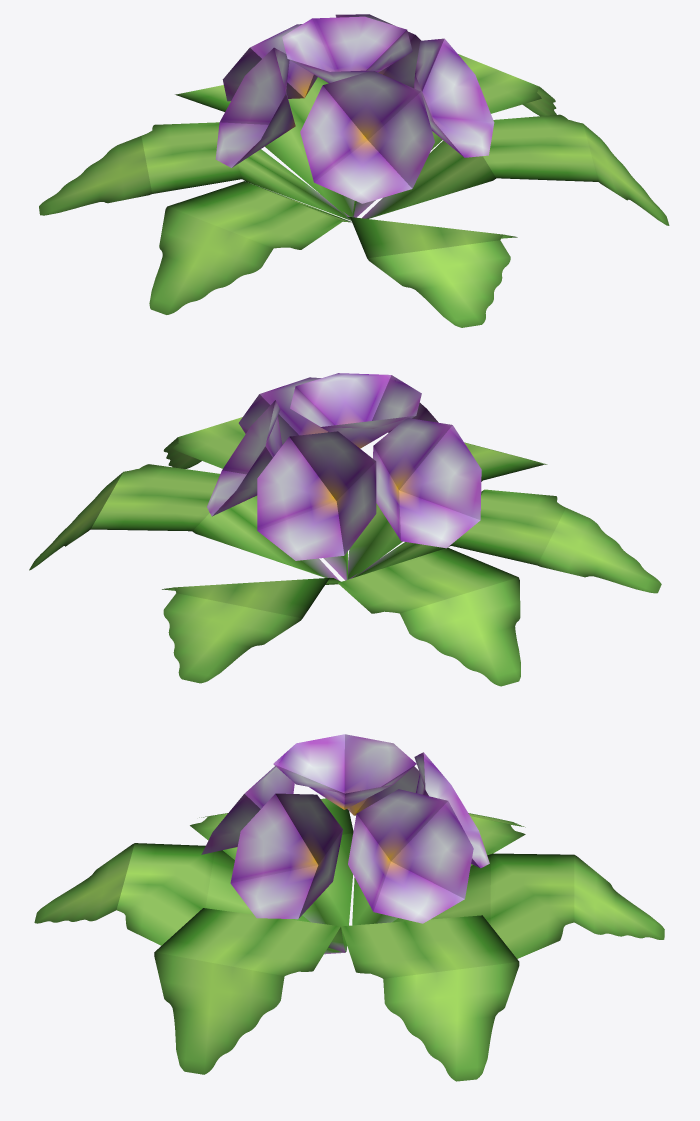
The model's file is Poly_Weed_Plant_05.obj.
3 views of the same model, one above another, from view 1: azimuth 30°, elevation 25°; view 2: azimuth 150°, elevation 25°; view 3: azimuth 270°, elevation 25° (orthographic).
Visible parts, largest first — view 1: Plane.001, Cube.001, Cube.005, Cube.007, Cube.004, Cube.003, Cube.002; view 2: Plane.001, Cube.003, Cube.004, Cube.007, Cube.002, Cube.005; view 3: Plane.001, Cube.002, Cube.005, Cube.007, Cube.001, Cube.003, Cube.004.
Part boxes in pixels (<box>): Plane.001: <box>39,54,669,327</box>; Cube.001: <box>300,71,434,203</box>; Cube.005: <box>414,38,494,157</box>; Cube.007: <box>282,16,412,83</box>; Cube.004: <box>215,47,295,167</box>; Cube.003: <box>222,24,317,101</box>; Cube.002: <box>335,14,420,88</box>; Plane.001: <box>29,417,661,686</box>; Cube.003: <box>257,431,376,560</box>; Cube.004: <box>373,418,481,548</box>; Cube.007: <box>290,373,421,448</box>; Cube.002: <box>207,400,282,516</box>; Cube.005: <box>238,377,328,444</box>; Plane.001: <box>34,798,664,1081</box>; Cube.002: <box>348,789,473,923</box>; Cube.005: <box>230,793,342,919</box>; Cube.007: <box>273,734,416,809</box>; Cube.001: <box>201,762,294,854</box>; Cube.003: <box>414,752,489,868</box>; Cube.004: <box>347,766,419,815</box>.
Size of the model in its own units: 1.01 by 0.359 by 1.07.
1 material, 1 textured.
